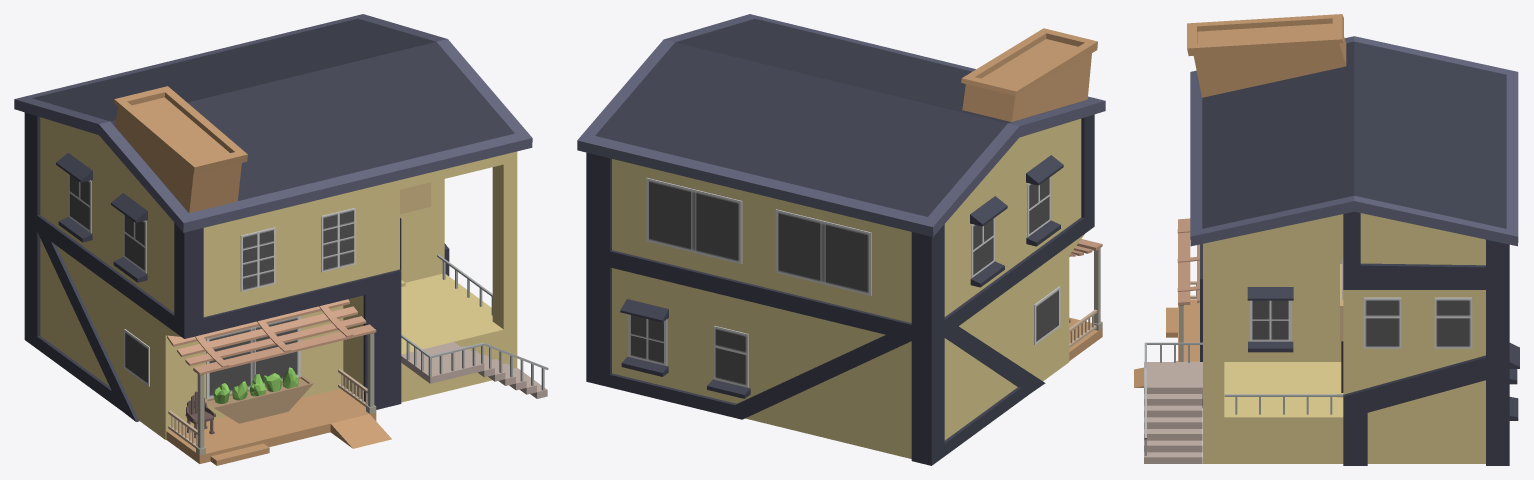
File: house06_color01.fbx
The picture shows the model from 3 angles, left to right: view 1: azimuth 30°, elevation 25°; view 2: azimuth 150°, elevation 25°; view 3: azimuth 270°, elevation 25°; orthographic projection. The views are drawn at different scales.
Visible parts, largest first — view 1: Cube.077, Cube.093, Cube.006; view 2: Cube.077, Cube.093; view 3: Cube.077, Cube.093.
Part boxes in pixels (bbox=[...]): Cube.077: bbox=[14, 14, 548, 465]; Cube.093: bbox=[113, 86, 247, 212]; Cube.006: bbox=[185, 391, 215, 438]; Cube.077: bbox=[577, 14, 1105, 465]; Cube.093: bbox=[961, 28, 1097, 121]; Cube.077: bbox=[1134, 36, 1519, 465]; Cube.093: bbox=[1187, 14, 1346, 97].
Size of the model in its own units: 1265 by 1042 by 1240.
